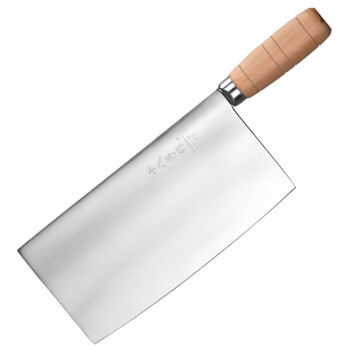knief: (12, 21, 328, 339)
